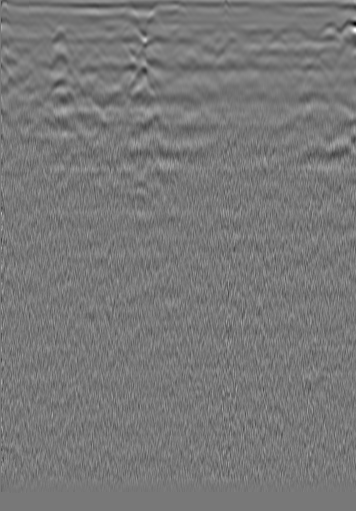가스: (126, 106, 163, 134)
상수: (301, 7, 321, 27)
오수: (23, 18, 43, 38)
우수: (172, 10, 192, 30)
